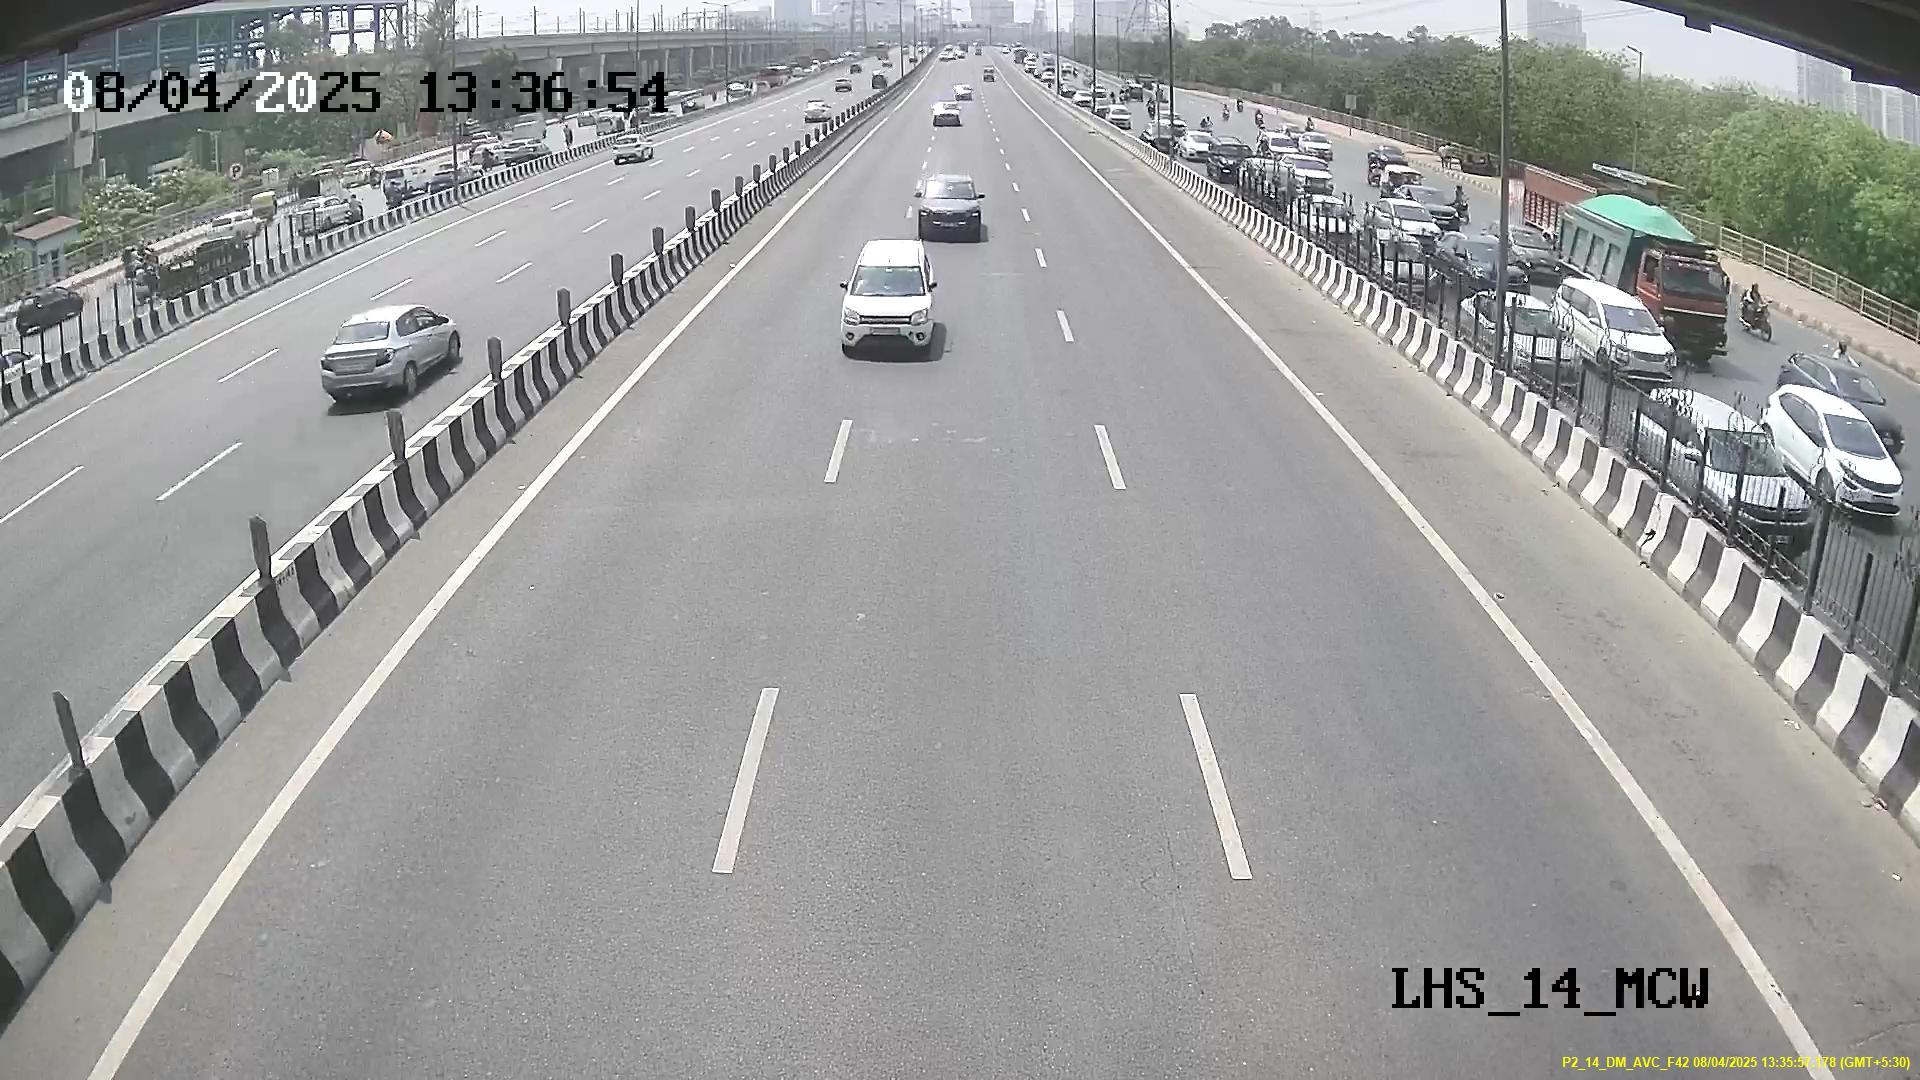car: (836, 247, 943, 360), (913, 169, 982, 245)
